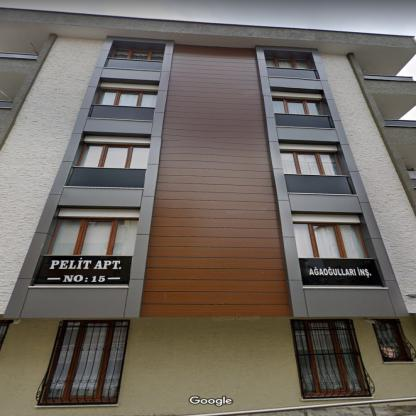window: (44, 320, 129, 402), (292, 321, 364, 396), (46, 218, 138, 256), (292, 222, 369, 258), (78, 144, 150, 168), (280, 152, 342, 175), (372, 320, 407, 358), (94, 90, 158, 108), (272, 100, 326, 116), (109, 47, 164, 61), (265, 57, 311, 69)
